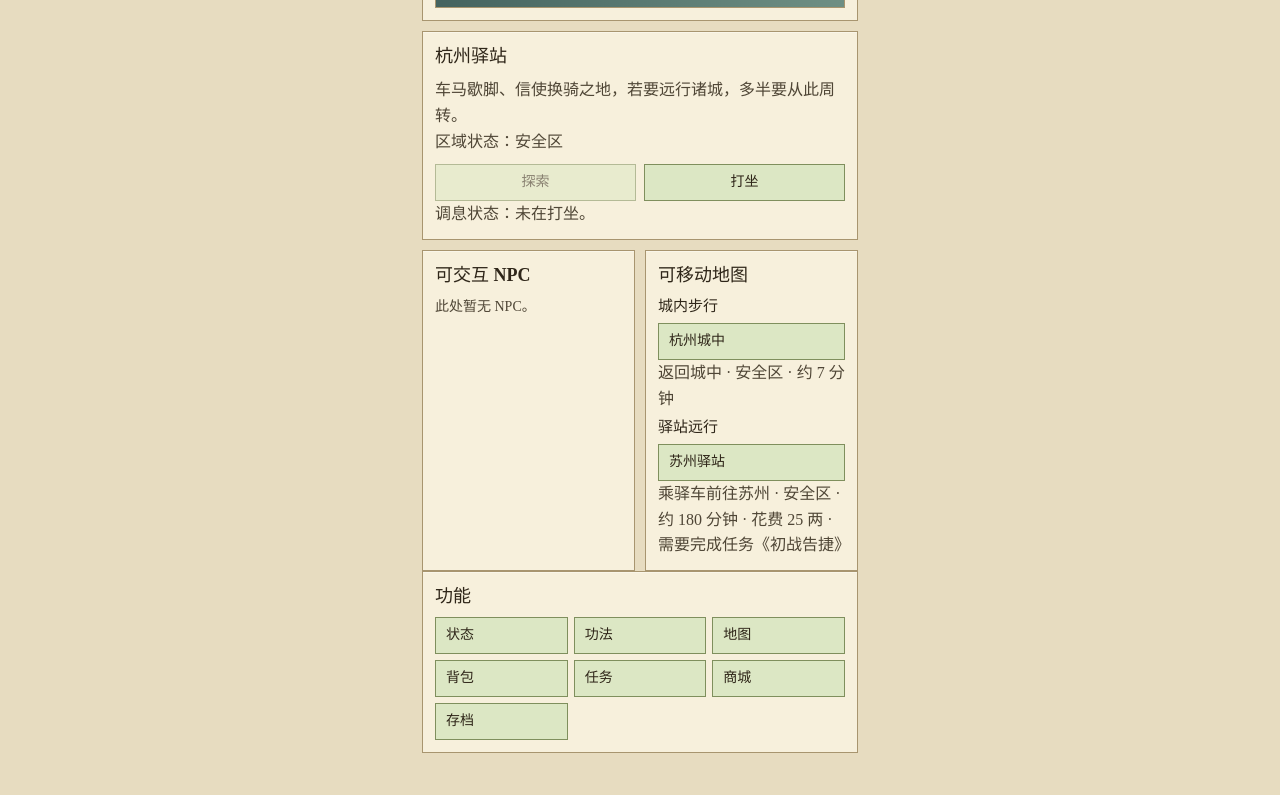
MapPanel › shows blocked station route before quest completion
(page scrolled)
Click the button "地图".
click(779, 636)  # box [712,617,845,654]
(page scrolled)
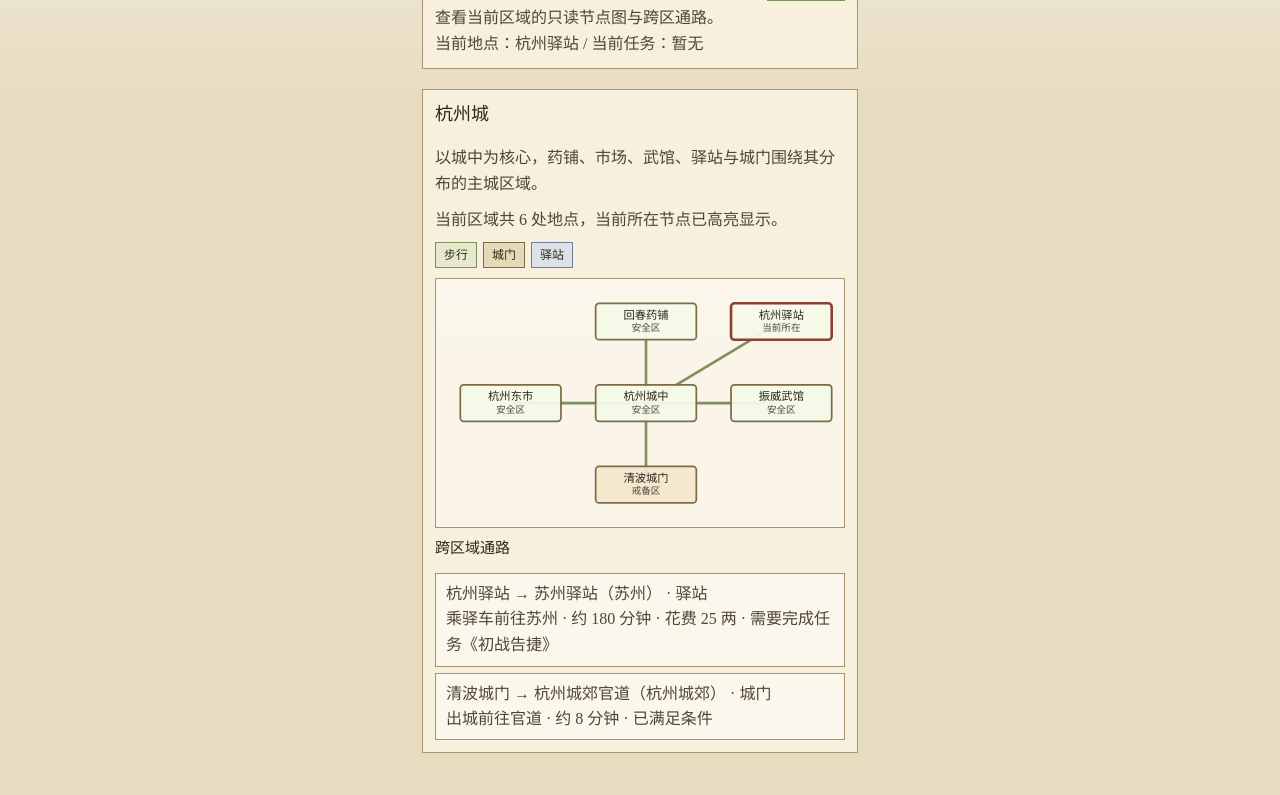
Expected: the text "杭州驿站 → 苏州驿站（苏州） · 驿站" is shown, [446,585,707,602]
